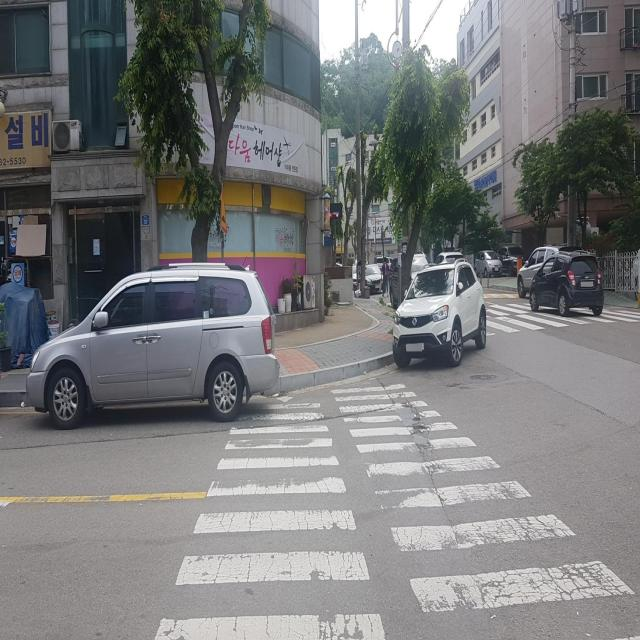횡단보도: (153, 383, 640, 640), (477, 282, 640, 343)
